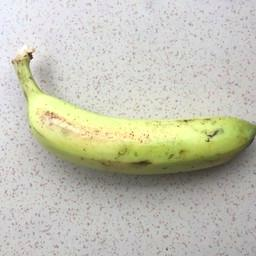Banana Ripe: (0, 72, 256, 206)
